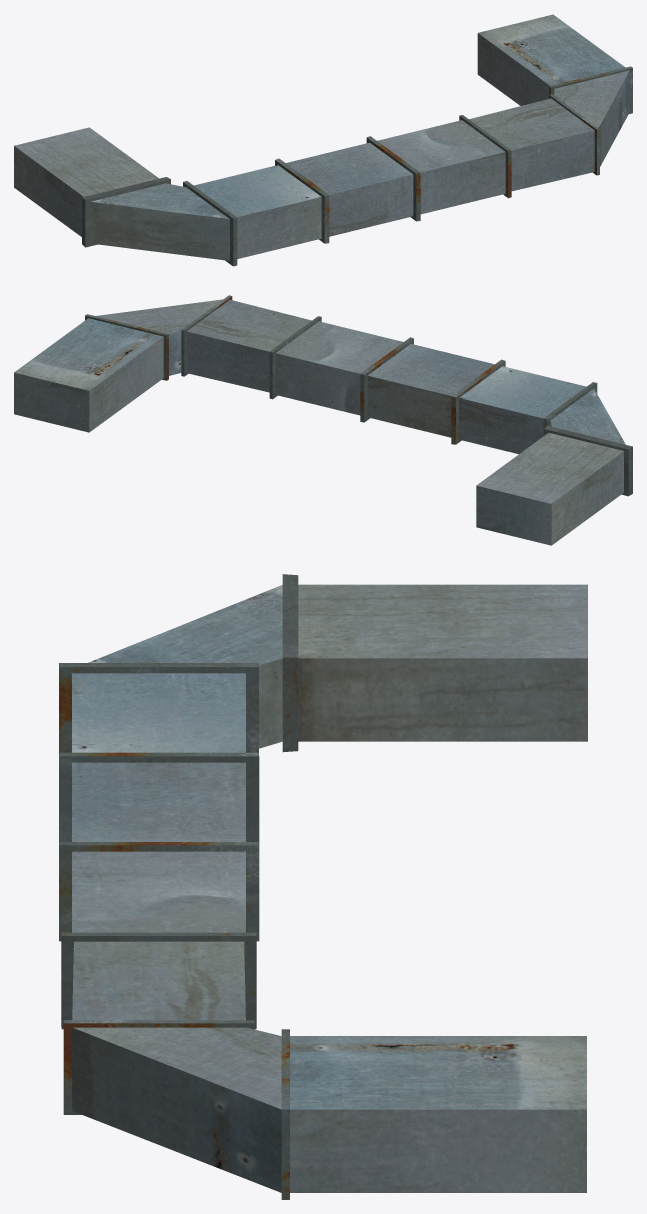
File: VentSytemShort.fbx
The picture shows the model from 3 angles, top to bottom: view 1: azimuth 30°, elevation 25°; view 2: azimuth 150°, elevation 25°; view 3: azimuth 270°, elevation 25°; orthographic projection. The views are drawn at different scales.
Visible parts, largest first — view 1: VentSystemShort; view 2: VentSystemShort; view 3: VentSystemShort.
Boxes of the visible parts, x1,y1,x2,y2 form: VentSystemShort: [14, 14, 632, 266]; VentSystemShort: [14, 295, 632, 545]; VentSystemShort: [59, 574, 587, 1199].
Size of the model in its own units: 3.59 by 1.51 by 0.3017.
